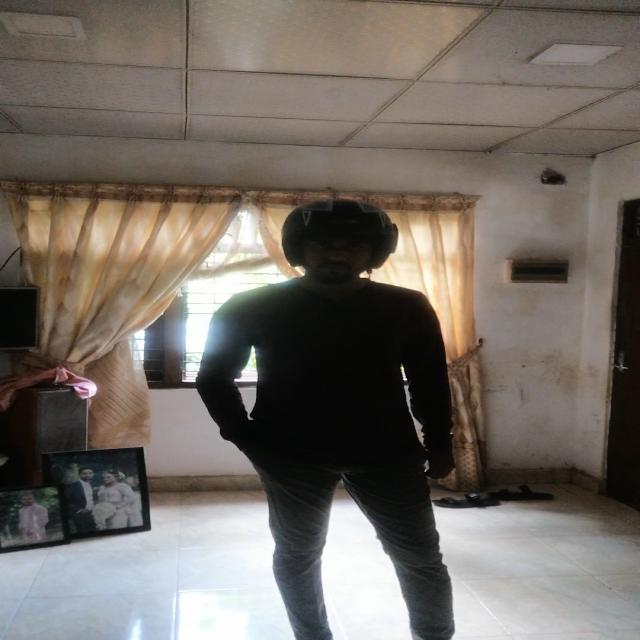Helmet_Wearer: (267, 208, 407, 288)
Person: (207, 192, 495, 640)
